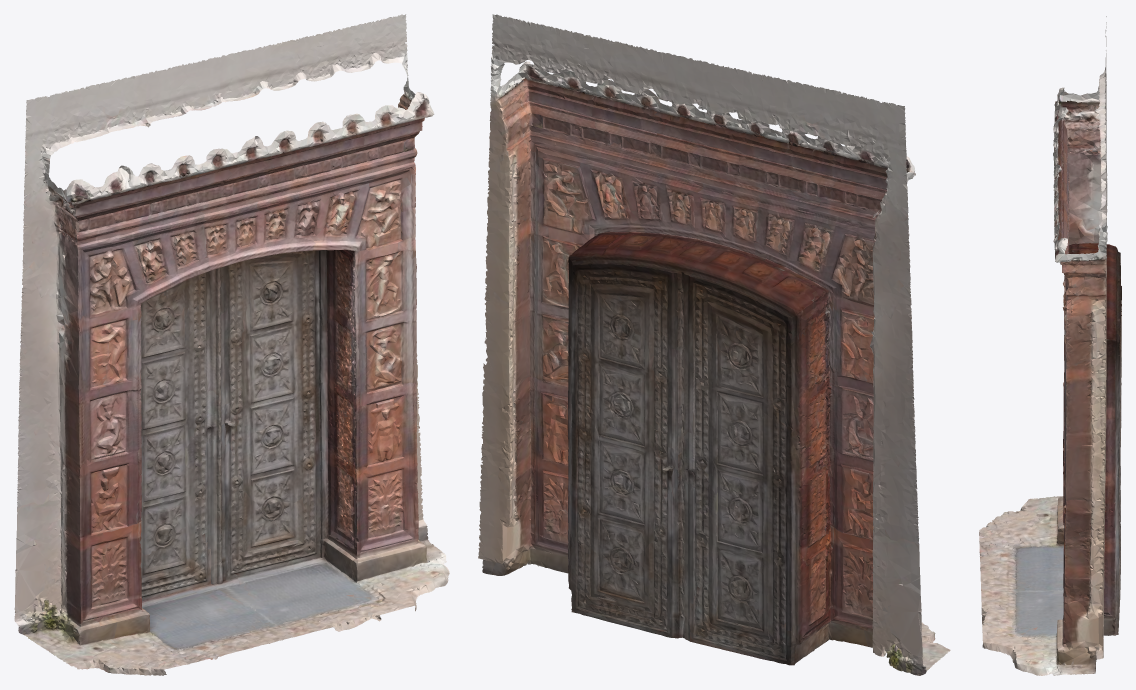
3 views of the same model, side by side, from view 1: azimuth 30°, elevation 25°; view 2: azimuth 150°, elevation 25°; view 3: azimuth 270°, elevation 25° (orthographic). The views are drawn at different scales.
Visible parts, largest first — view 1: 512.25k; view 2: 512.25k; view 3: 512.25k.
Boxes of the visible parts, box(x1,y1,x2,y2) form: 512.25k: box(14, 14, 449, 675); 512.25k: box(478, 14, 950, 675); 512.25k: box(979, 16, 1121, 675).
Bounding box in the file's own units: 3.12 × 3.93 × 1.03.
Materials: 1 (1 with a texture image).
